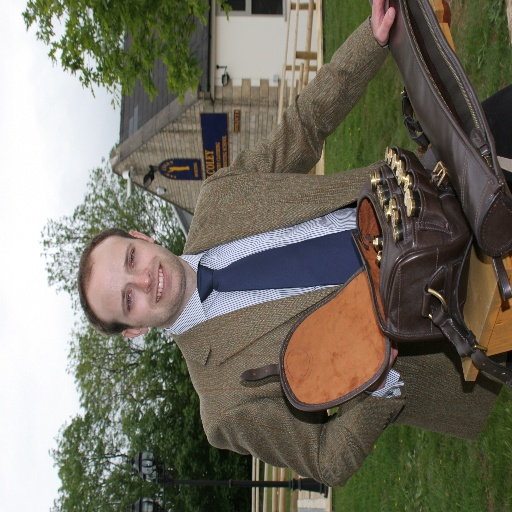hand: (373, 0, 408, 58), (373, 335, 399, 382)
